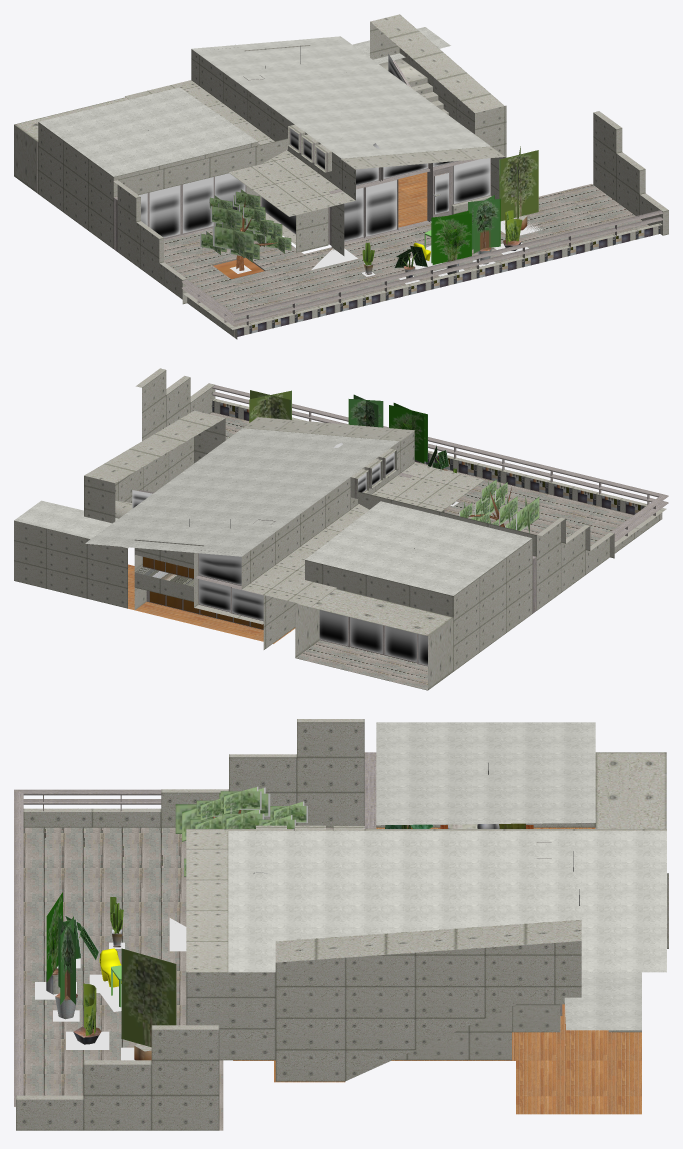
Rendered from F2_Room_Modern.dae.
3 views of the same model, one above another, from view 1: azimuth 30°, elevation 25°; view 2: azimuth 150°, elevation 25°; view 3: azimuth 270°, elevation 25° (orthographic). The views are drawn at different scales.
Visible parts, largest first — view 1: vsn_mesh_13_, vsn_mesh_22_, vsn_mesh_16_, vsn_mesh_19_, vsn_mesh_12_, vsn_mesh_5_, vsn_mesh_3_, vsn_mesh_6_, vsn_mesh_20_, vsn_mesh_17_, vsn_mesh_0_, vsn_mesh_14_; view 2: vsn_mesh_13_, vsn_mesh_22_, vsn_mesh_16_, vsn_mesh_19_, vsn_mesh_12_, vsn_mesh_5_, vsn_mesh_6_, vsn_mesh_3_, vsn_mesh_17_, vsn_mesh_4_, vsn_mesh_20_, vsn_mesh_14_; view 3: vsn_mesh_13_, vsn_mesh_22_, vsn_mesh_16_, vsn_mesh_17_, vsn_mesh_3_, vsn_mesh_12_, vsn_mesh_6_, vsn_mesh_14_, vsn_mesh_0_, vsn_mesh_5_, vsn_mesh_2_.
Boxes of the visible parts, x1,y1,x2,y2 form: vsn_mesh_13_: (14,14,668,339); vsn_mesh_22_: (39,27,490,176); vsn_mesh_16_: (164,184,648,326); vsn_mesh_19_: (139,54,490,241); vsn_mesh_12_: (37,142,663,325); vsn_mesh_5_: (234,215,662,337); vsn_mesh_3_: (232,146,538,263); vsn_mesh_6_: (200,203,471,267); vsn_mesh_20_: (214,47,490,245); vsn_mesh_17_: (213,172,427,278); vsn_mesh_0_: (230,220,543,284); vsn_mesh_14_: (209,189,374,265); vsn_mesh_13_: (14,368,666,690); vsn_mesh_22_: (14,428,531,595); vsn_mesh_16_: (210,412,633,690); vsn_mesh_19_: (132,452,427,665); vsn_mesh_12_: (212,385,668,666); vsn_mesh_5_: (212,398,659,520); vsn_mesh_6_: (389,403,539,533); vsn_mesh_3_: (249,390,490,520); vsn_mesh_17_: (128,564,295,643); vsn_mesh_4_: (142,557,263,629); vsn_mesh_20_: (138,438,412,621); vsn_mesh_14_: (475,479,504,525); vsn_mesh_13_: (16,719,668,1130); vsn_mesh_22_: (228,722,666,1030); vsn_mesh_16_: (23,827,333,1130); vsn_mesh_17_: (233,827,641,1114); vsn_mesh_3_: (58,815,433,1047); vsn_mesh_12_: (14,752,376,1106); vsn_mesh_6_: (46,787,270,982); vsn_mesh_14_: (110,786,307,933); vsn_mesh_0_: (35,918,186,1060); vsn_mesh_5_: (46,929,151,1060); vsn_mesh_2_: (99,825,411,1007).
Bounding box in the file's own units: 190 × 42.14 × 169.
Materials: 18 (17 with a texture image).
